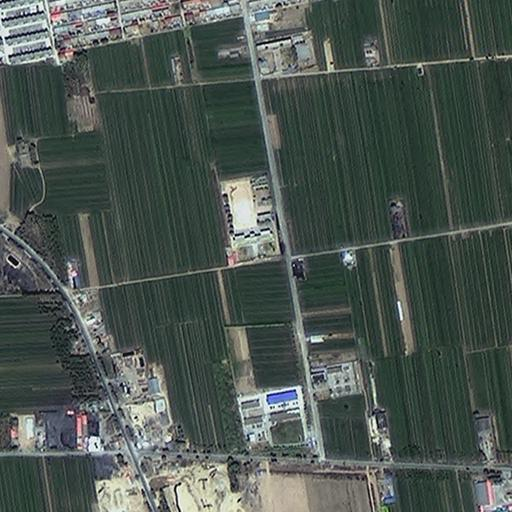school: (219, 173, 282, 263)
